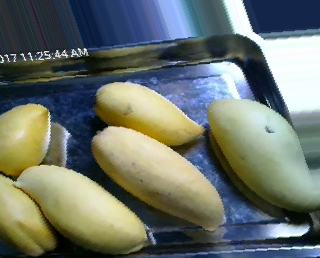Mango: (92, 125, 224, 230), (207, 99, 313, 213), (13, 164, 146, 252), (94, 82, 204, 147), (0, 173, 56, 255), (0, 103, 51, 177)
